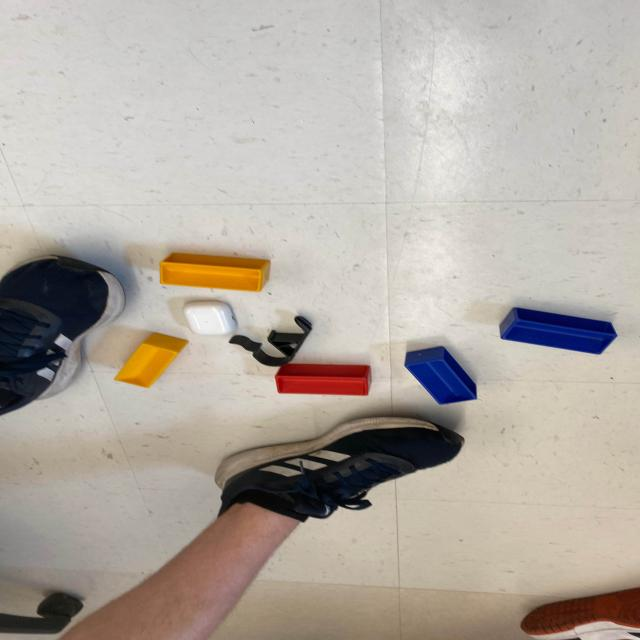blue-specimen: (497, 307, 618, 355), (404, 345, 477, 405)
red-specimen: (275, 363, 373, 396)
yellow-specimen: (158, 252, 273, 293), (113, 332, 189, 388)
